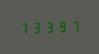nine: (54, 19, 65, 33)
seven: (66, 19, 77, 33), (18, 21, 29, 34)
three: (30, 20, 41, 34), (42, 20, 53, 33)
